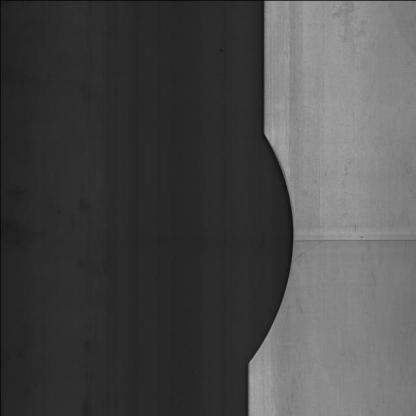crescent_gap: (233, 108, 300, 374)
welding_line: (278, 222, 416, 256)
